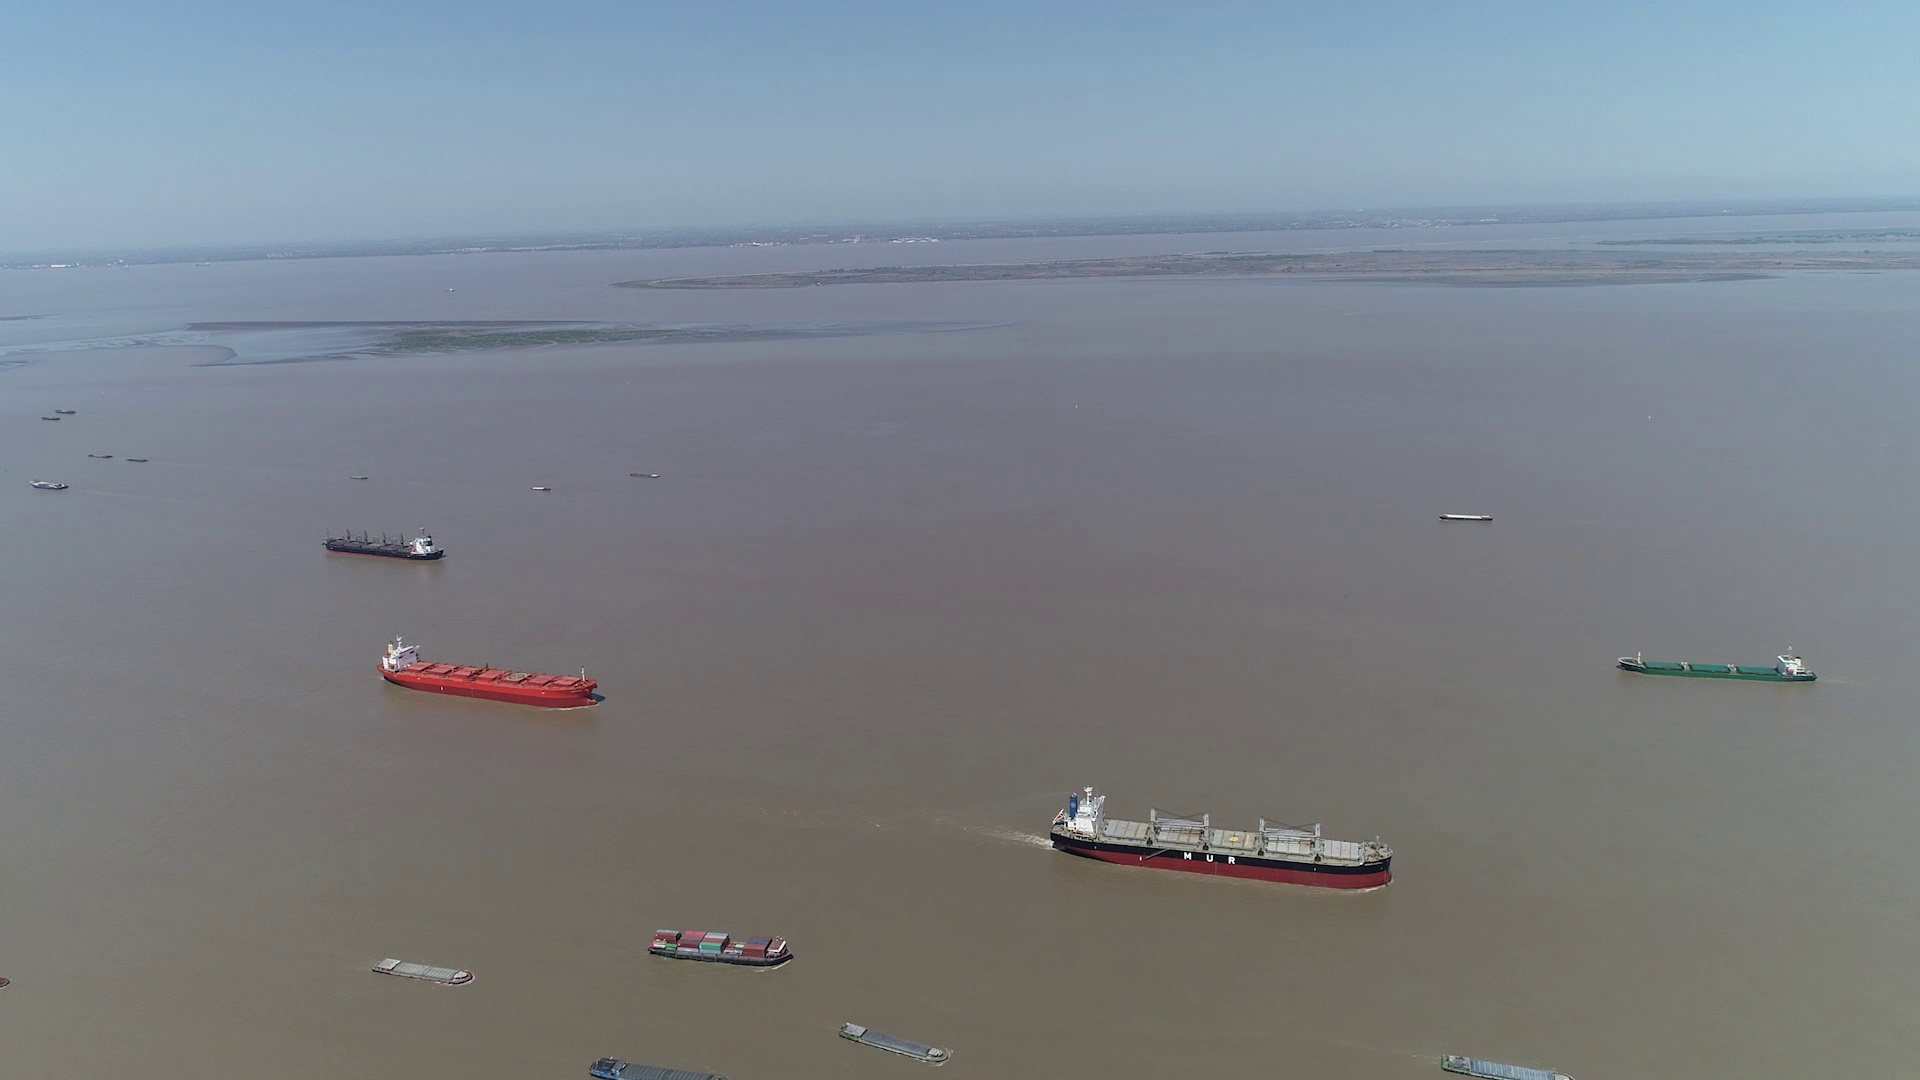ship: (1048, 789, 1396, 887), (378, 636, 597, 705), (1617, 650, 1816, 682), (647, 928, 793, 968), (839, 1025, 948, 1064), (322, 529, 444, 560), (1443, 1054, 1571, 1080), (589, 1058, 721, 1080), (371, 955, 472, 984), (1436, 512, 1491, 524), (33, 479, 73, 491), (626, 472, 659, 479)
